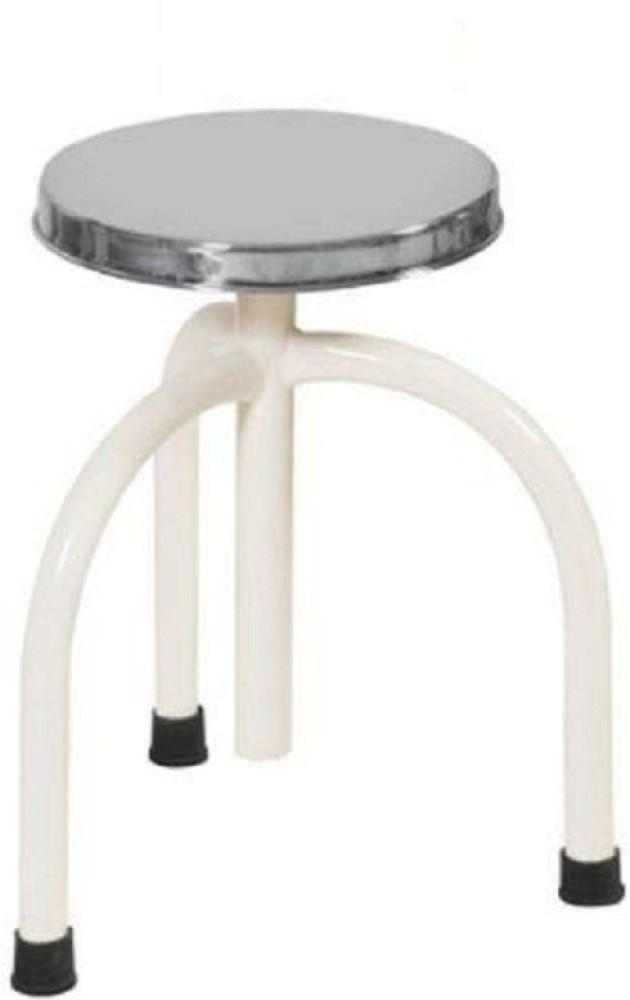stool: (11, 105, 623, 992)
